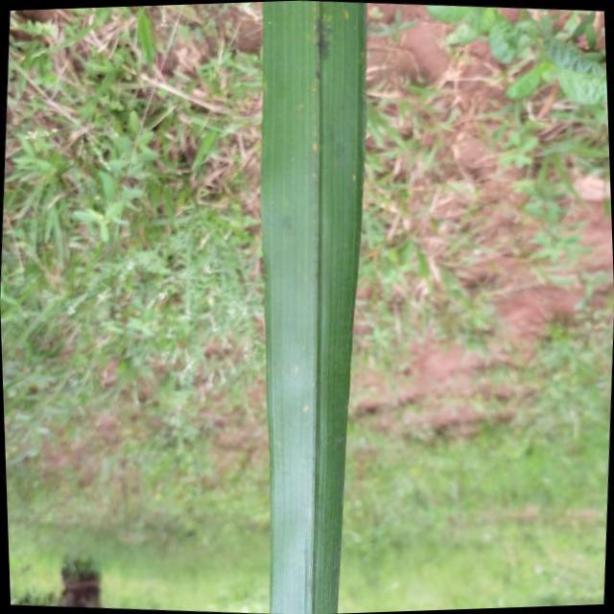Kalium: (257, 0, 368, 614)
